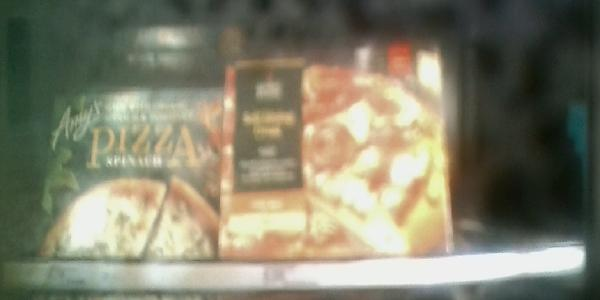pizza1: (221, 44, 449, 260), (39, 86, 226, 264)
